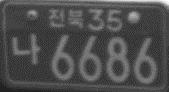3: (88, 8, 105, 32)
5: (105, 7, 123, 33)
6: (132, 37, 158, 84), (50, 33, 75, 81), (77, 35, 102, 83)
8: (105, 35, 130, 83)
나: (11, 32, 42, 66)
전북_O: (48, 6, 85, 29)
